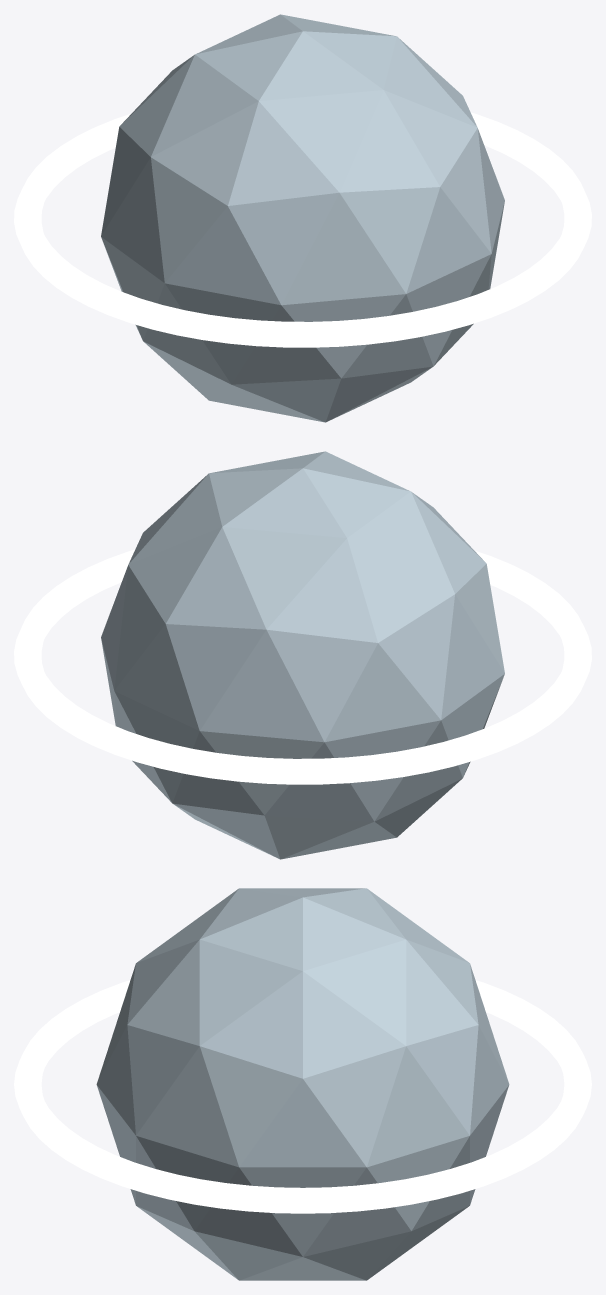
File: pickup.glb
3 views of the same model, one above another, from view 1: azimuth 30°, elevation 25°; view 2: azimuth 150°, elevation 25°; view 3: azimuth 270°, elevation 25° (orthographic).
Parts seen in each view (by area): view 1: pickup; view 2: pickup; view 3: pickup.
Part boxes in pixels (bbox=[...]): pickup: bbox=[14, 14, 591, 422]; pickup: bbox=[14, 451, 591, 859]; pickup: bbox=[14, 888, 591, 1280].
Size of the model in its own units: 2.1 by 1.5 by 2.1.
